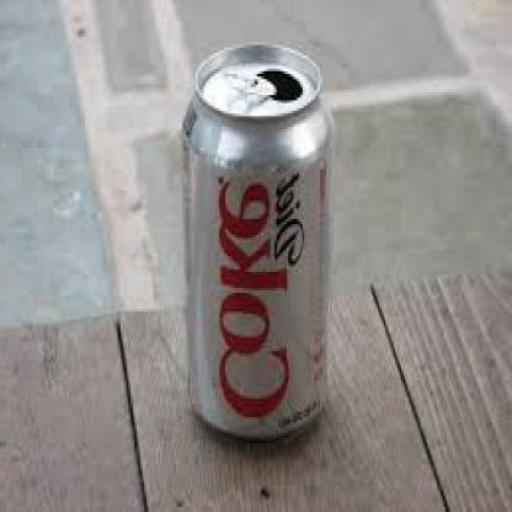metal: (180, 40, 336, 449)
